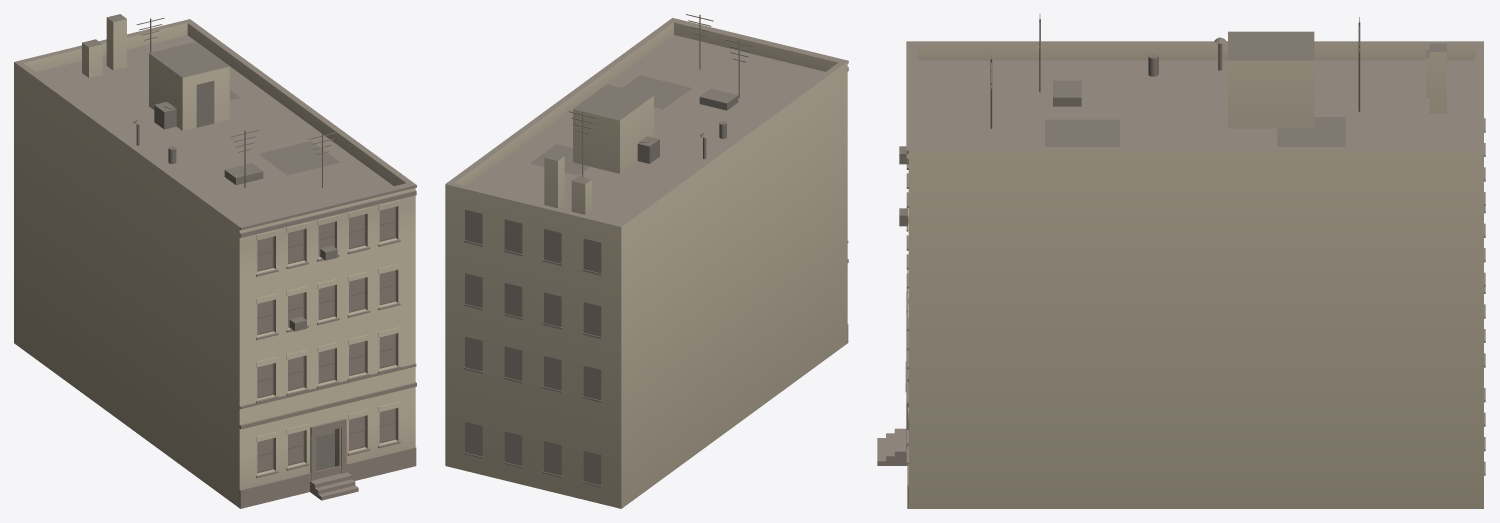
Rendered from tenement_l.glb.
3 renders of one model, left to right at view 1: azimuth 30°, elevation 25°; view 2: azimuth 150°, elevation 25°; view 3: azimuth 270°, elevation 25°, orthographic. The views are drawn at different scales.
Visible parts, largest first — view 1: tenement_l; view 2: tenement_l; view 3: tenement_l.
Boxes of the visible parts, bbox=[...] form: tenement_l: bbox=[14, 14, 416, 508]; tenement_l: bbox=[445, 14, 848, 508]; tenement_l: bbox=[877, 14, 1485, 508].
Bounding box in the file's own units: 9 × 16.57 × 21.15.
